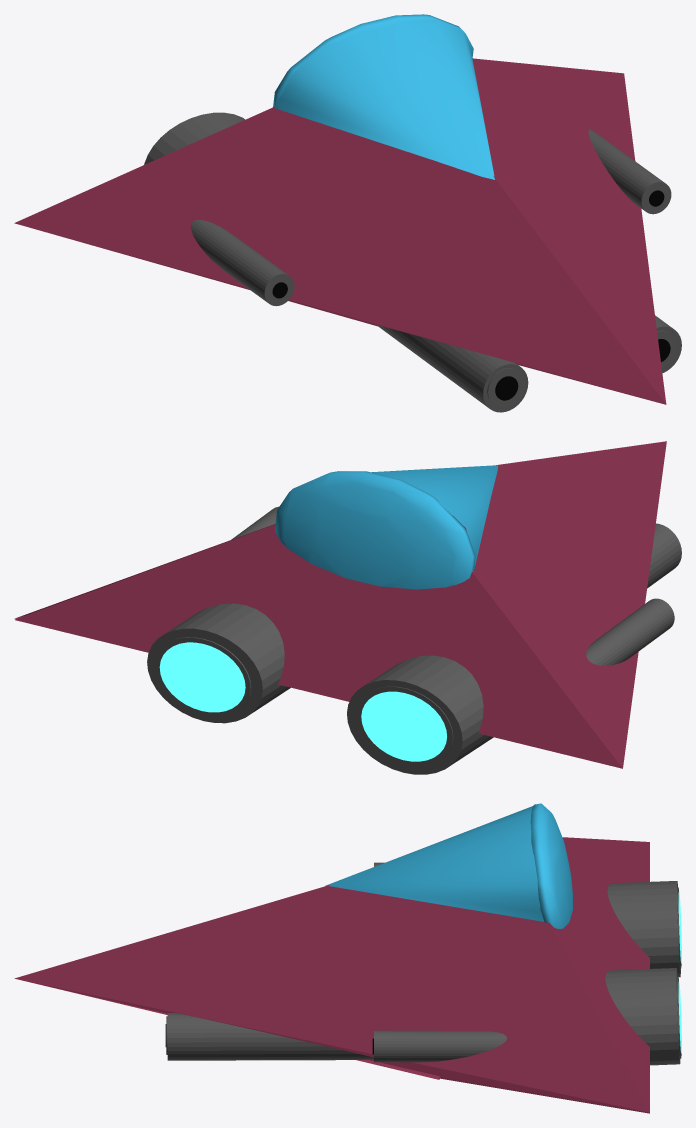
File: nave rosa.fbx
The picture shows the model from 3 angles, top to bottom: view 1: azimuth 30°, elevation 25°; view 2: azimuth 150°, elevation 25°; view 3: azimuth 270°, elevation 25°; orthographic projection. The views are drawn at different scales.
Visible parts, largest first — view 1: Plane.001, Cone, Cylinder.005, Cylinder.002, Cylinder.003, Cylinder, Mball, Cylinder.007; view 2: Plane.001, Mball, Cylinder.001, Cylinder, Cylinder.012, Cylinder.013, Cone, Cylinder.002, Cylinder.014, Cylinder.015, Cylinder.005; view 3: Plane.001, Cone, Cylinder.004, Cylinder.001, Cylinder, Mball, Cylinder.003.
Boxes of the visible parts, x1,y1,x2,y2 form: Plane.001: (14, 58, 666, 404); Cone: (275, 21, 494, 179); Cylinder.005: (376, 325, 528, 412); Cylinder.002: (191, 220, 294, 306); Cylinder.003: (588, 129, 671, 214); Cylinder: (144, 112, 245, 164); Mball: (273, 14, 473, 109); Cylinder.007: (487, 368, 524, 407); Plane.001: (14, 441, 666, 768); Mball: (275, 471, 475, 589); Cylinder.001: (147, 603, 290, 723); Cylinder: (347, 655, 493, 774); Cylinder.012: (159, 642, 245, 712); Cylinder.013: (361, 691, 446, 761); Cone: (371, 465, 498, 571); Cylinder.002: (586, 598, 674, 665); Cylinder.014: (153, 637, 251, 716); Cylinder.015: (356, 686, 453, 765); Cylinder.005: (647, 523, 681, 588); Plane.001: (14, 837, 649, 1113); Cone: (325, 806, 544, 921); Cylinder.004: (167, 1013, 373, 1060); Cylinder.001: (605, 968, 680, 1065); Cylinder: (607, 881, 680, 977); Mball: (530, 803, 572, 928); Cylinder.003: (374, 1030, 506, 1062).
Bounding box in the file's own units: 6.01 × 2.68 × 6.24.
